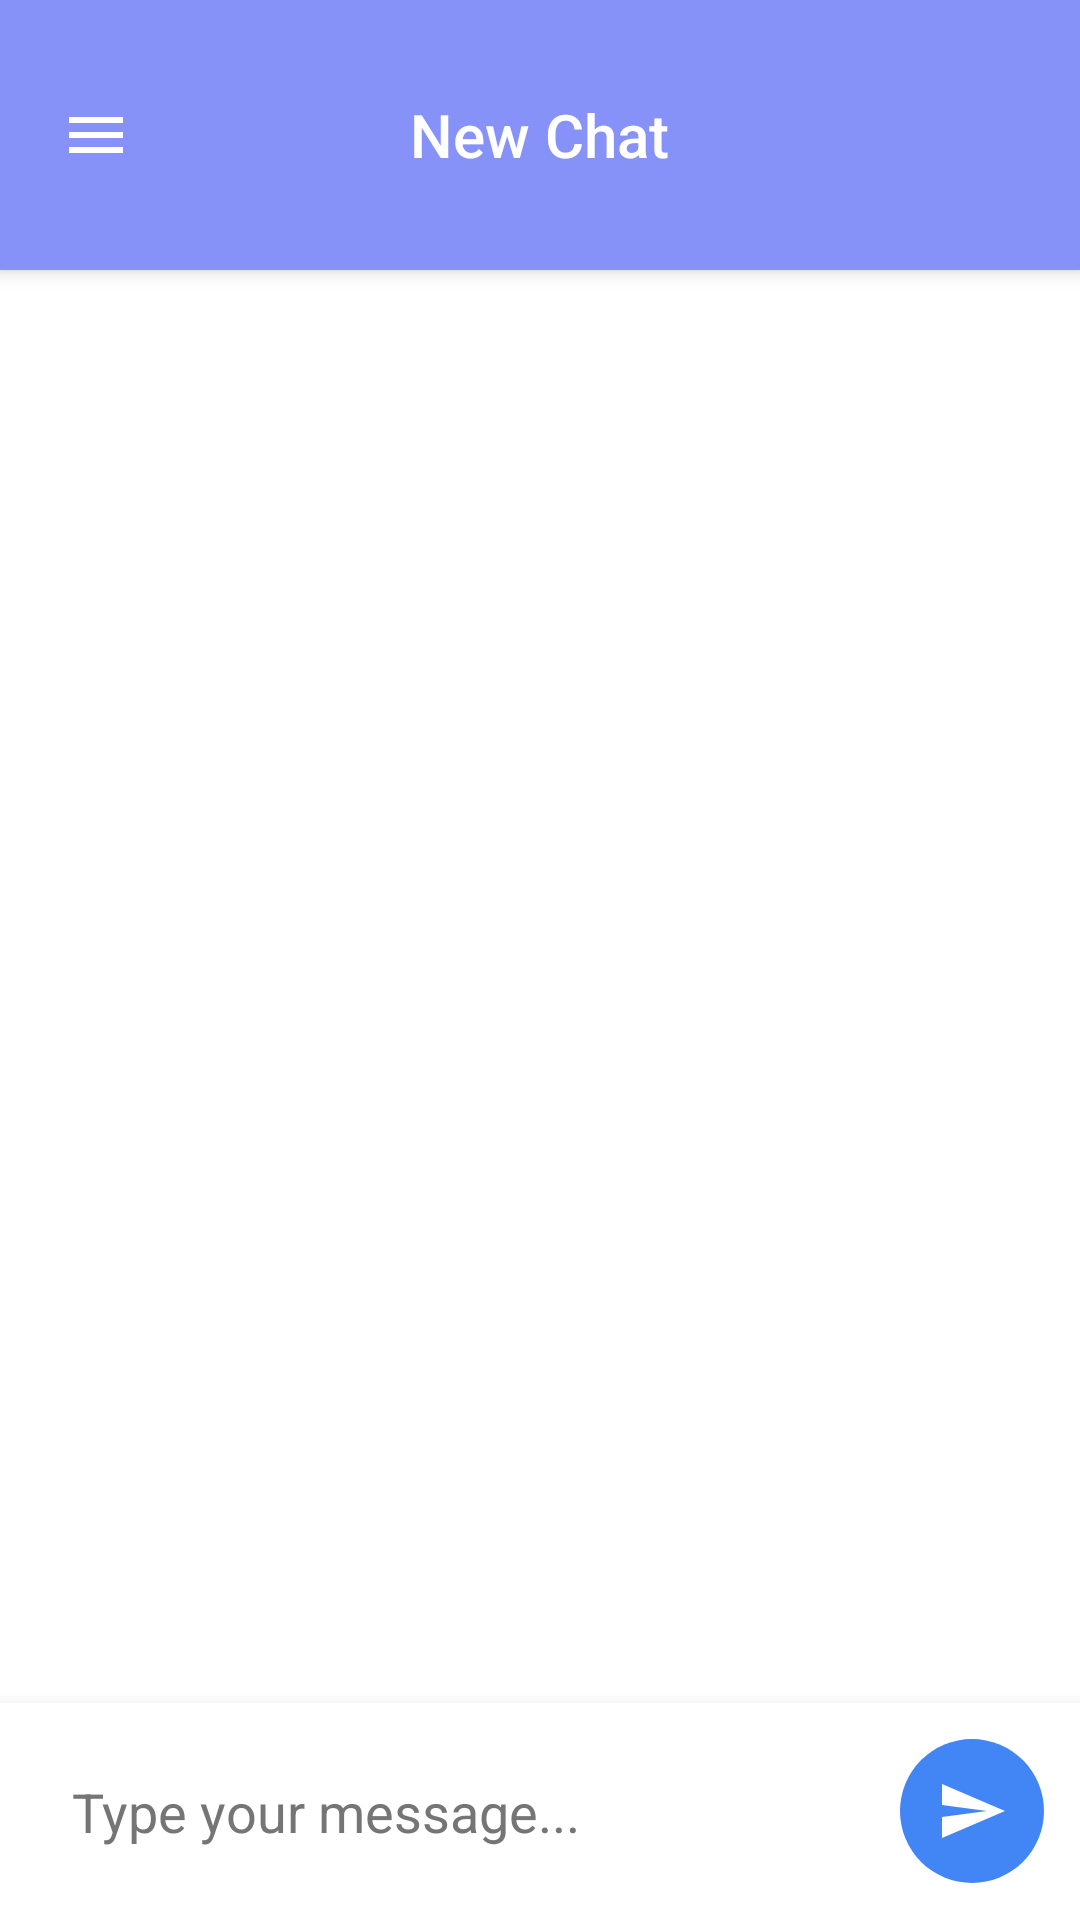

Named icons in this screenshot (1080px×1920px) and their bounding boxes, (x1, y1, x2, y2):
Menu: (69, 117, 123, 153)
Send: (900, 1739, 1044, 1883)
